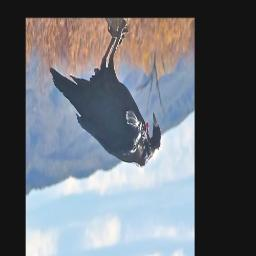Crow: (48, 20, 162, 170)
